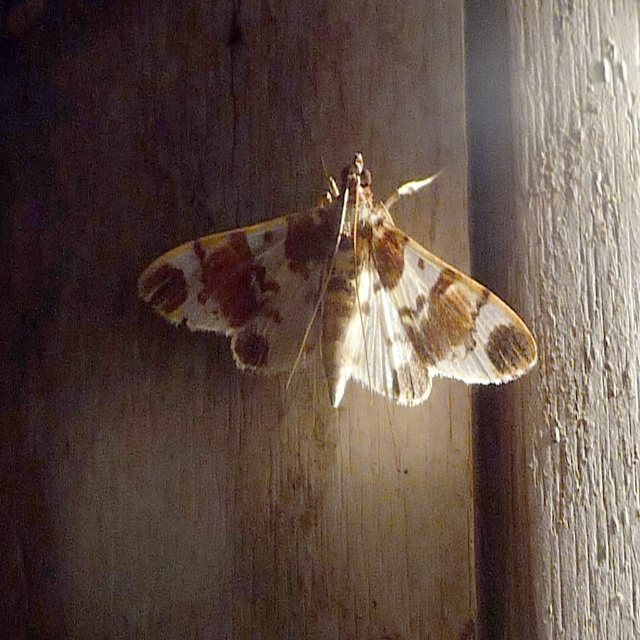Butterfly: (150, 152, 523, 425)
